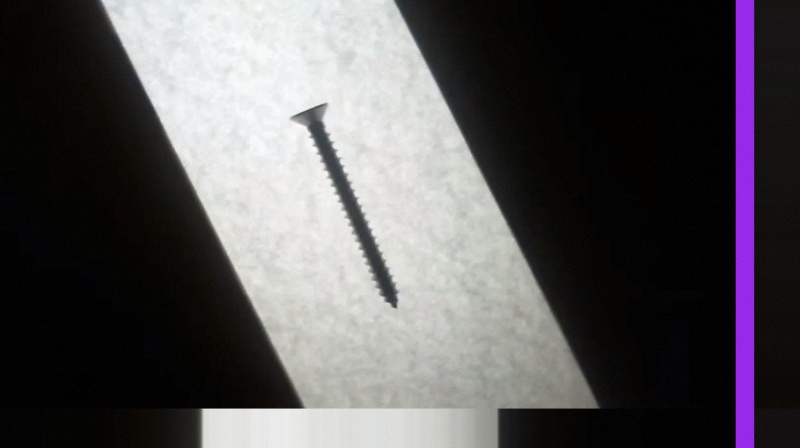S002: (285, 98, 402, 310)
